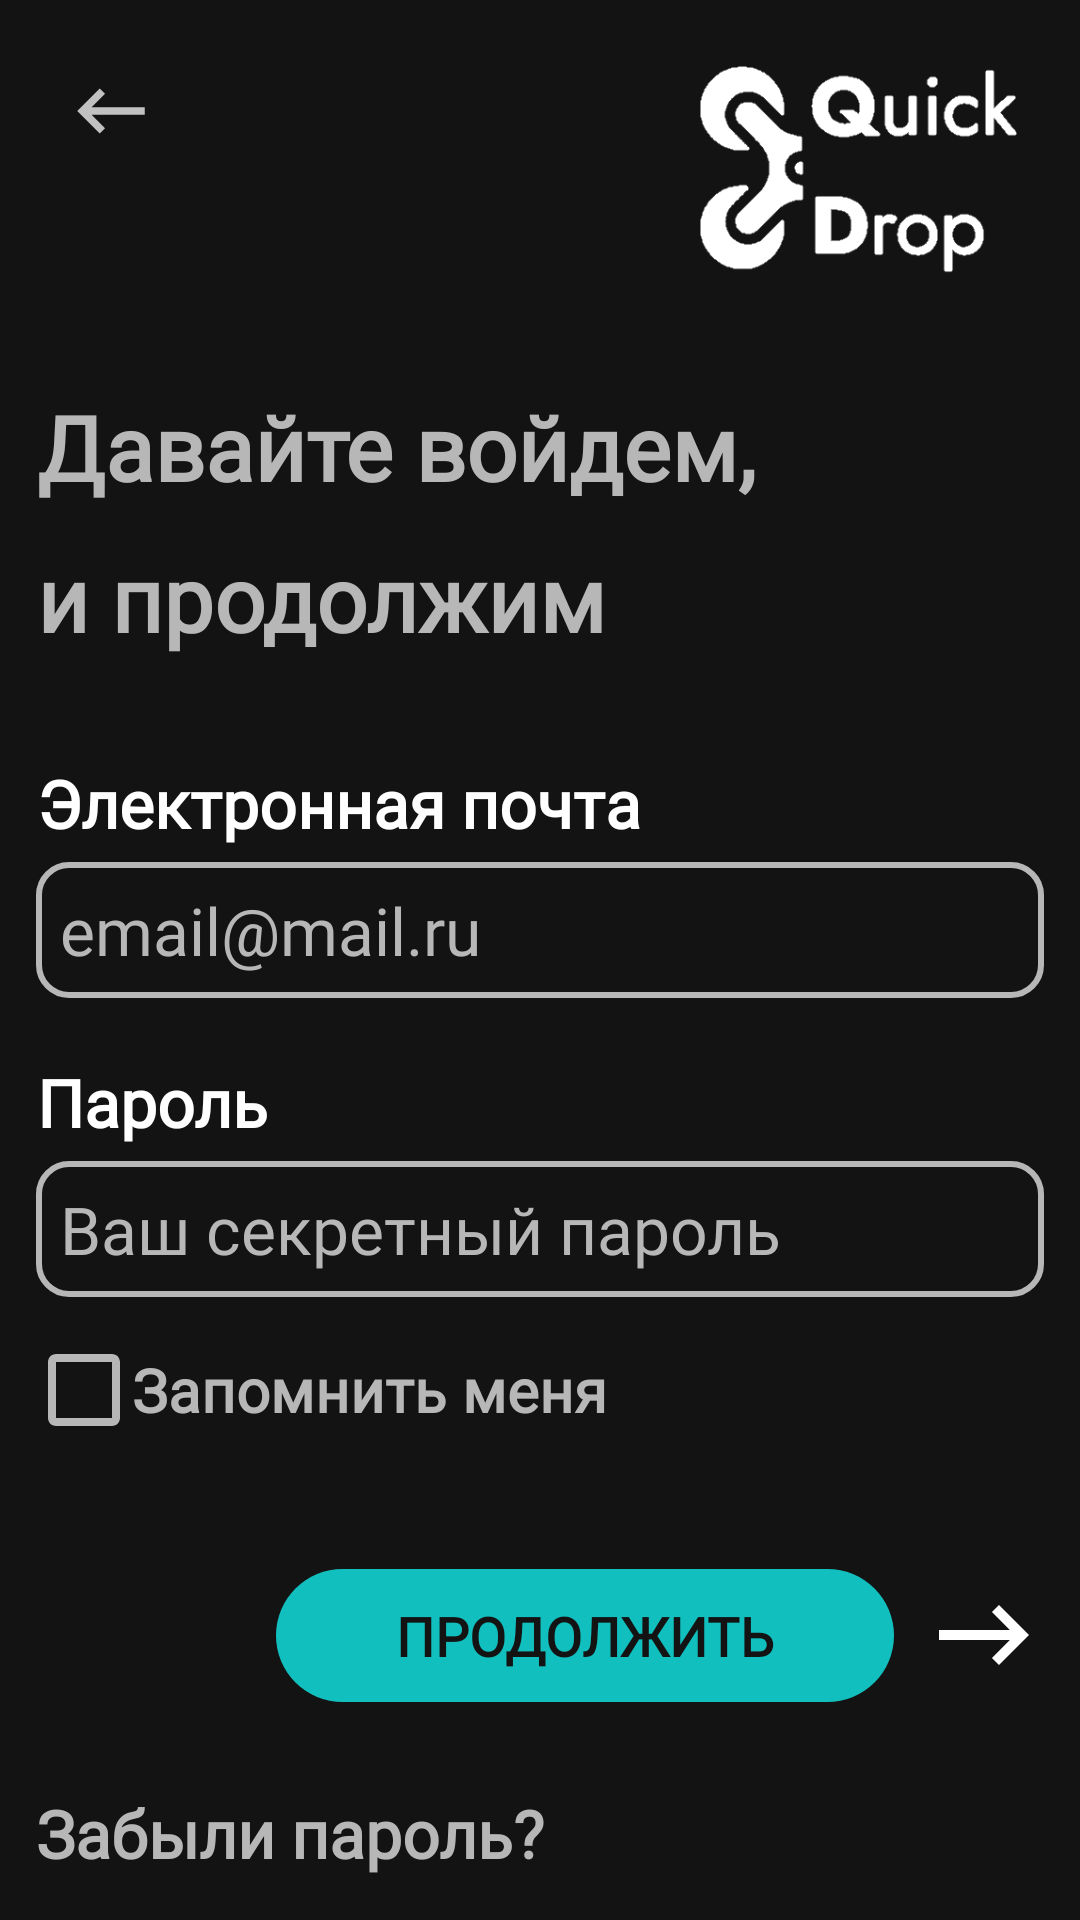

Icons on this 1080px x 1920px Android screen, each with its box as (x1, y1, x2, y2):
check box: (48, 1354, 120, 1426)
